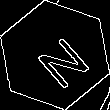N_NW: (22, 23, 88, 87)
